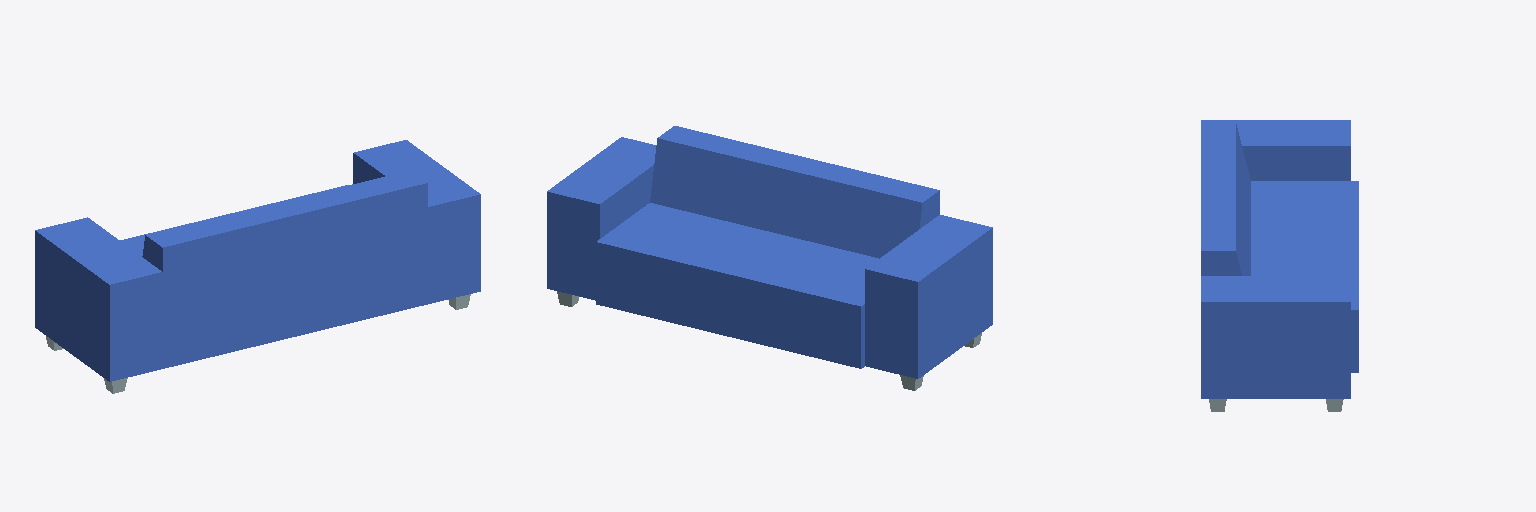
Rendered from loungeDesignSofa.obj.
The picture shows the model from 3 angles: view 1: azimuth 30°, elevation 25°; view 2: azimuth 150°, elevation 25°; view 3: azimuth 270°, elevation 25°; orthographic projection.
Parts seen in each view (by area): view 1: loungeDesignSofa; view 2: loungeDesignSofa; view 3: loungeDesignSofa.
Boxes of the visible parts, x1,y1,x2,y2 form: loungeDesignSofa: [35, 140, 480, 393]; loungeDesignSofa: [547, 126, 992, 390]; loungeDesignSofa: [1201, 120, 1358, 411].
Size of the model in its own units: 1.12 by 0.4 by 0.41.